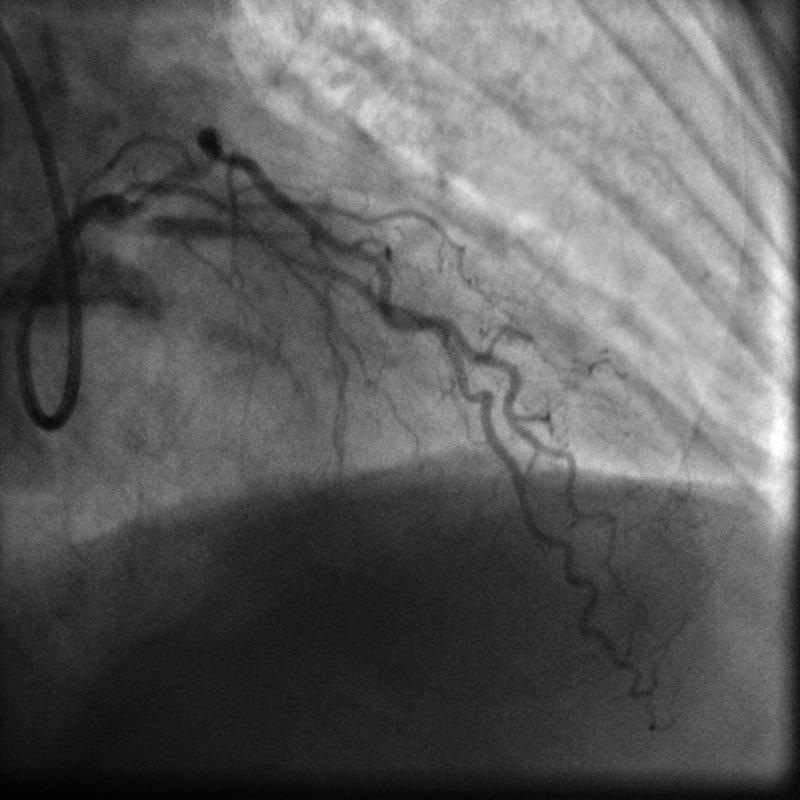Stenosis: (241, 217, 303, 256)
